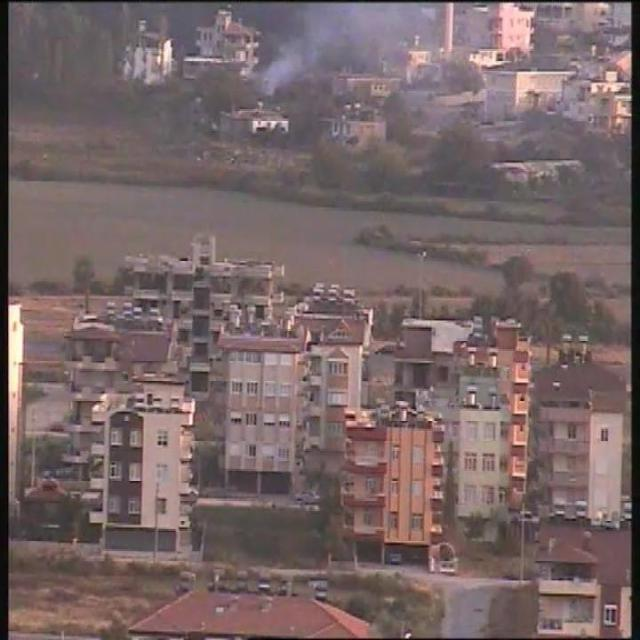Smoke: (260, 6, 349, 98)
